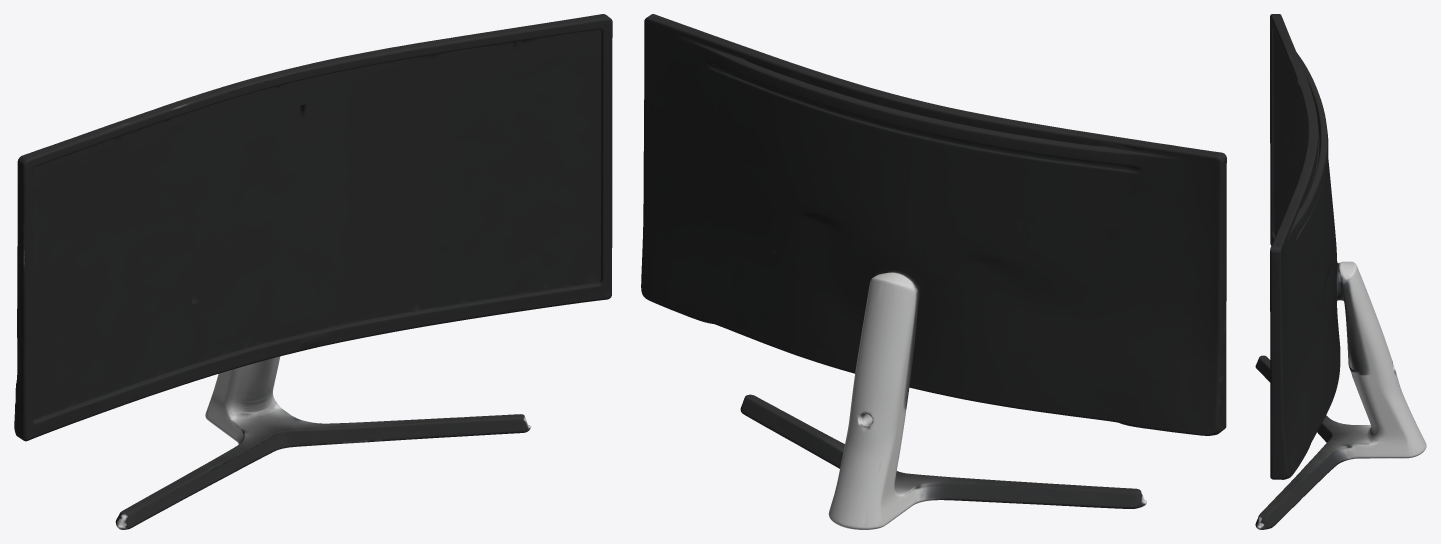
File: Monitor.fbx
3 views of the same model, side by side, from view 1: azimuth 30°, elevation 25°; view 2: azimuth 150°, elevation 25°; view 3: azimuth 270°, elevation 25° (orthographic). The views are drawn at different scales.
Parts seen in each view (by area): view 1: node_0; view 2: node_0; view 3: node_0.
Part boxes in pixels (box(x1,y1,x2,y2)): node_0: box(14, 14, 612, 529); node_0: box(641, 14, 1226, 529); node_0: box(1255, 14, 1426, 529).
Bounding box in the file's own units: 100 × 62.65 × 30.6.
1 material, 1 textured.
